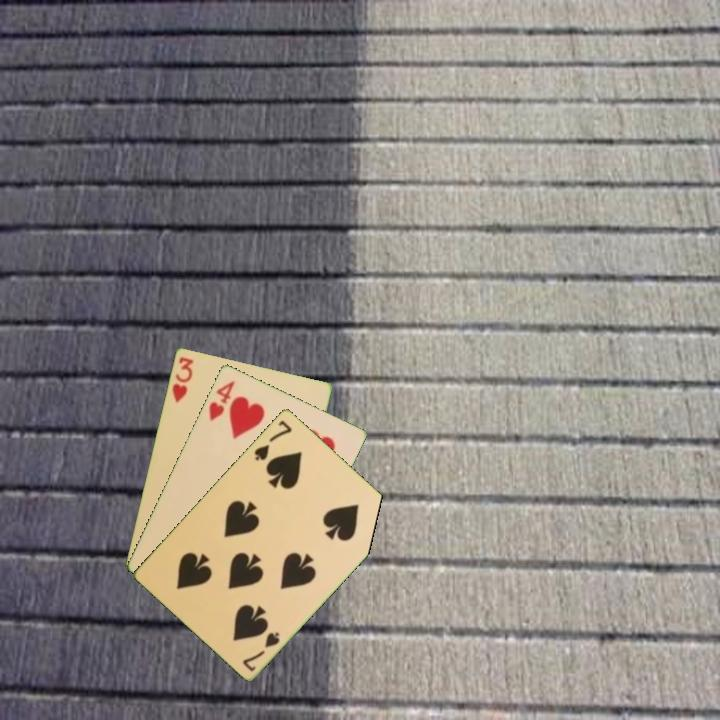3h: (168, 353, 196, 405)
4h: (205, 377, 238, 423)
7s: (251, 416, 295, 463), (239, 628, 283, 674)
